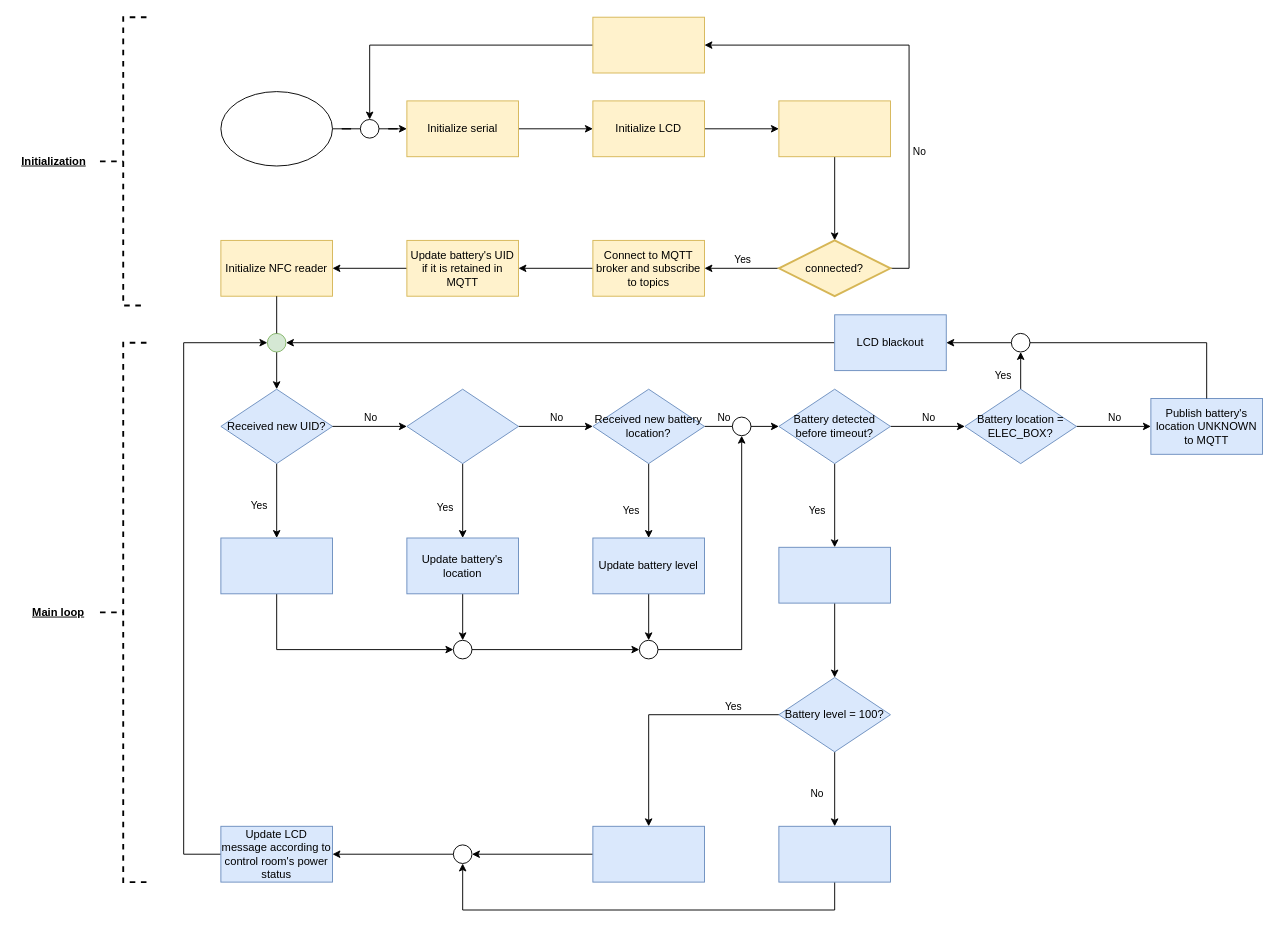
The diagram is 1279 pixels wide and 934 high, and some of its shapes have lost their labels. Each missing label, with the centre of its shape:
Initialize WiFi and connect to escape room's network: the point at 834,128
Publish battery's location ELEC_BOX to MQTT: the point at 834,574
Publish on MQTT: control room power is lost: the point at 834,853
Publish on MQTT: control room power is resumed: the point at 648,853
Reboot: the point at 648,44
Received new battery level?: the point at 462,426
Start: the point at 276,128
Update battery's UID: the point at 276,565
